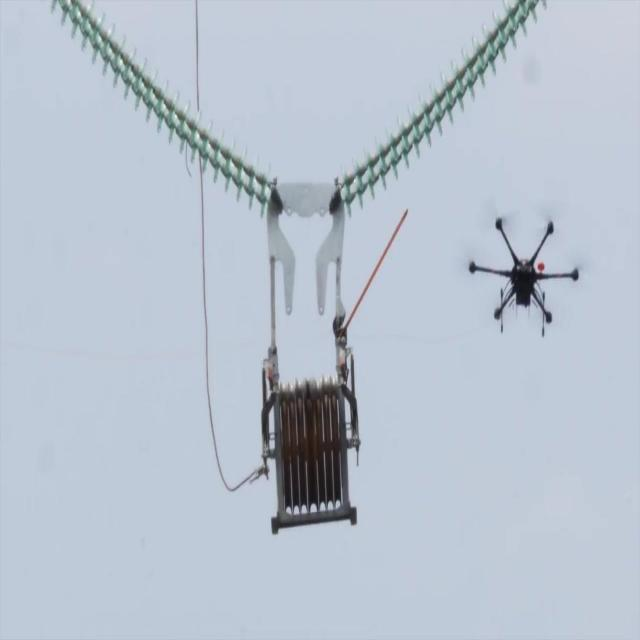UAV: (466, 207, 586, 338)
